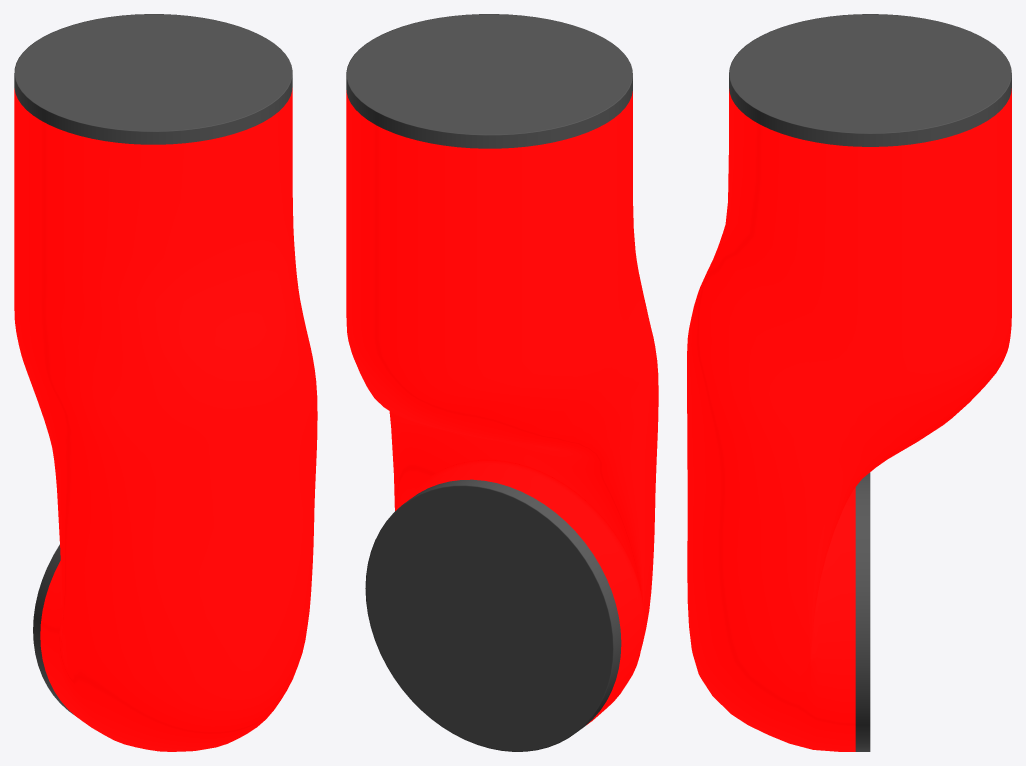
3 views of the same model, side by side, from view 1: azimuth 30°, elevation 25°; view 2: azimuth 150°, elevation 25°; view 3: azimuth 270°, elevation 25° (orthographic). The views are drawn at different scales.
Visible parts, largest first — view 1: Link04; view 2: Link04; view 3: Link04.
Part boxes in pixels (box(x1,y1,x2,y2)): Link04: box(14, 14, 317, 751); Link04: box(346, 14, 658, 751); Link04: box(687, 14, 1011, 751).
Size of the model in its own units: 0.0955 by 0.1097 by 0.2478.
